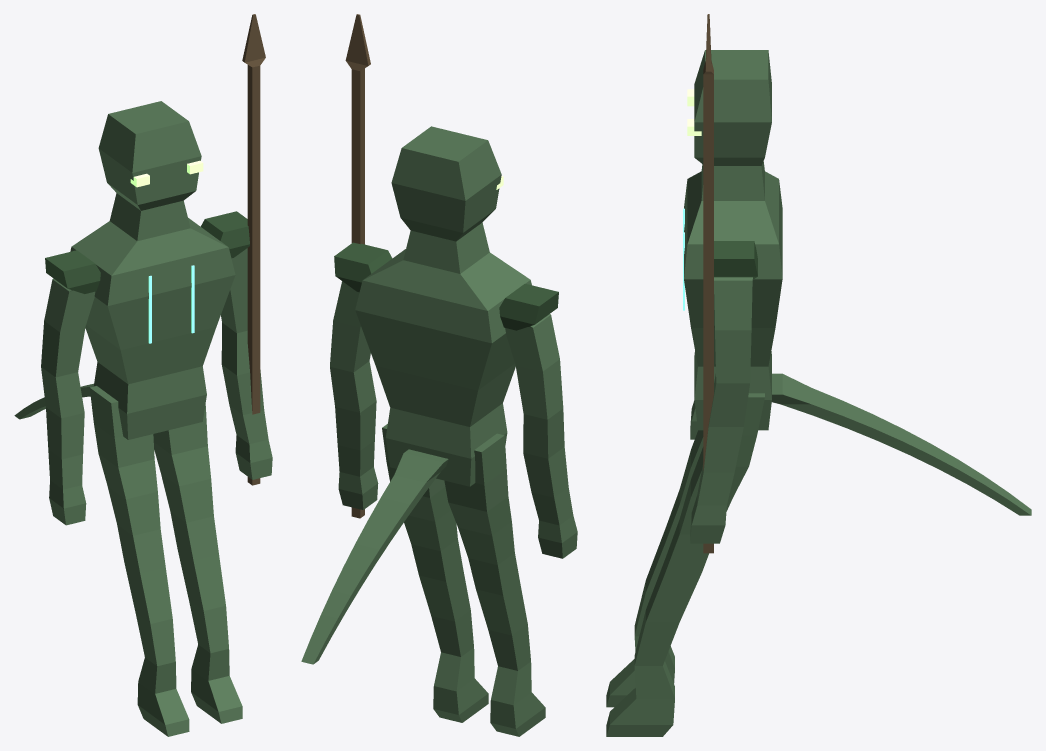
The model's file is battle_verdant.glb.
3 views of the same model, side by side, from view 1: azimuth 30°, elevation 25°; view 2: azimuth 150°, elevation 25°; view 3: azimuth 270°, elevation 25° (orthographic). The views are drawn at different scales.
Visible parts, largest first — view 1: BattleAlien_verdant; view 2: BattleAlien_verdant; view 3: BattleAlien_verdant.
Part boxes in pixels (x1,y1,x2,y2): BattleAlien_verdant: [14, 14, 272, 736]; BattleAlien_verdant: [301, 14, 577, 736]; BattleAlien_verdant: [606, 14, 1031, 736].
Bounding box in the file's own units: 0.784 × 2.36 × 1.21.
